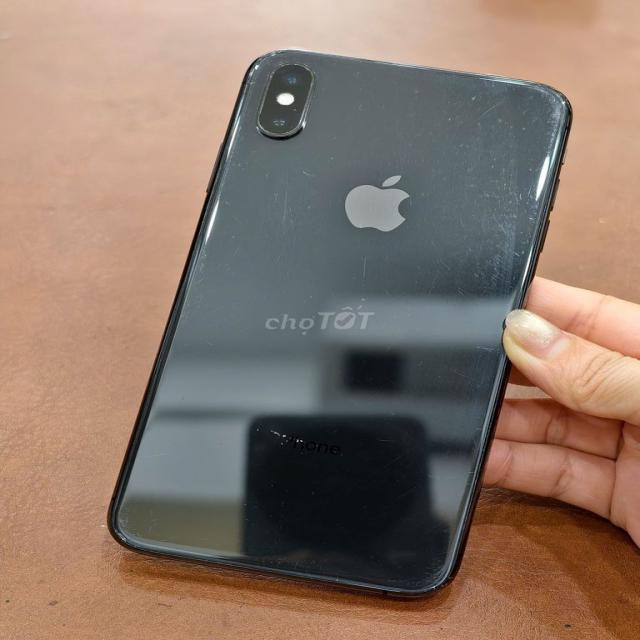gen_x_xs: (108, 49, 571, 597)
scratch: (444, 82, 540, 288), (388, 470, 474, 557), (358, 112, 460, 178), (226, 475, 330, 533), (238, 537, 351, 590), (383, 256, 452, 333), (247, 409, 342, 464), (429, 339, 501, 410), (98, 500, 177, 556), (521, 86, 581, 155), (256, 183, 314, 244), (394, 552, 459, 602), (439, 274, 514, 316), (187, 245, 224, 329), (426, 56, 498, 99), (416, 185, 452, 248), (344, 255, 384, 311), (346, 366, 398, 409), (334, 50, 380, 98), (249, 244, 303, 279), (218, 139, 264, 177), (404, 464, 476, 488), (214, 208, 252, 248), (236, 45, 284, 76), (192, 524, 233, 559), (453, 415, 493, 444), (400, 78, 428, 118), (366, 423, 401, 453), (191, 329, 224, 355), (296, 162, 323, 188), (229, 125, 254, 151), (241, 95, 258, 132), (380, 402, 402, 426), (301, 284, 323, 307), (406, 350, 425, 376), (323, 142, 343, 166), (353, 98, 382, 114), (378, 340, 400, 359), (238, 75, 262, 92), (297, 56, 318, 74), (309, 88, 327, 104), (179, 391, 196, 407), (218, 192, 229, 202)
